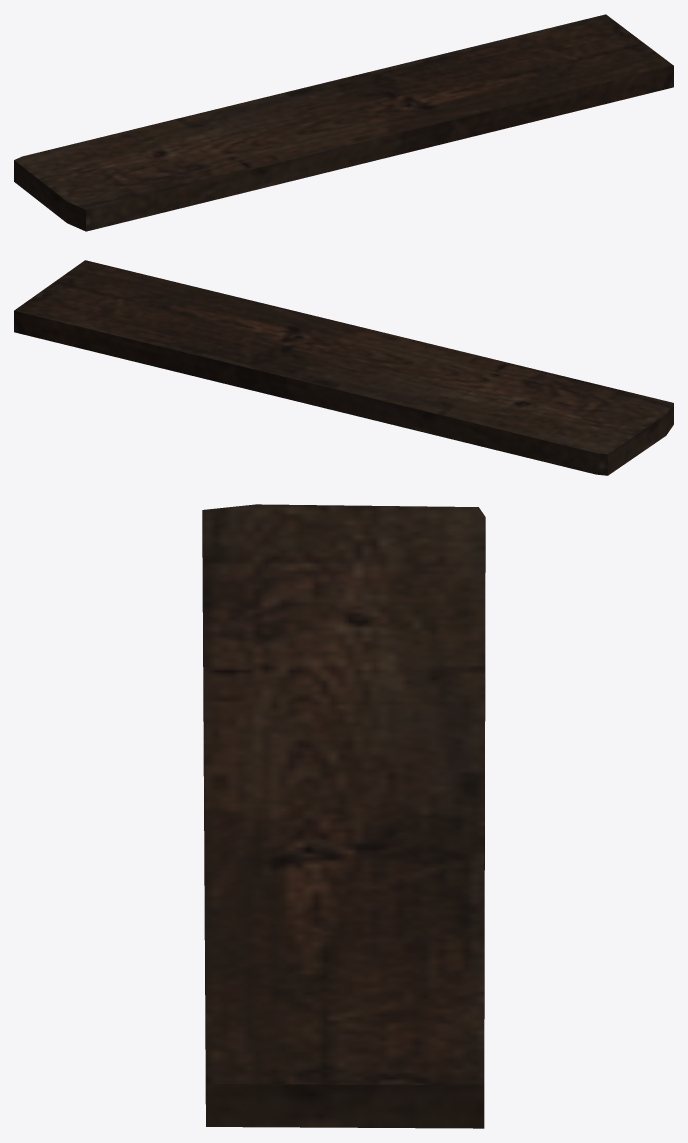
File: wooden_plank_4.fbx
The picture shows the model from 3 angles, top to bottom: view 1: azimuth 30°, elevation 25°; view 2: azimuth 150°, elevation 25°; view 3: azimuth 270°, elevation 25°; orthographic projection. The views are drawn at different scales.
Parts seen in each view (by area): view 1: wooden_plank_4; view 2: wooden_plank_4; view 3: wooden_plank_4.
Part boxes in pixels (x1,y1,x2,y2): wooden_plank_4: (14, 14, 673, 231); wooden_plank_4: (14, 260, 673, 475); wooden_plank_4: (202, 504, 485, 1128).
Size of the model in its own units: 0.8656 by 0.1782 by 0.03.
